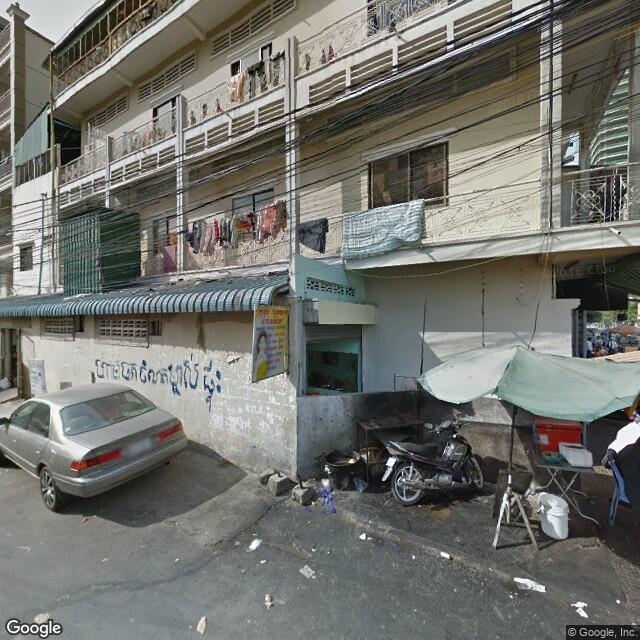litter: (509, 571, 552, 597), (184, 612, 217, 637), (351, 522, 378, 552), (241, 529, 266, 561), (315, 490, 346, 515), (432, 541, 458, 567), (297, 556, 318, 588), (258, 587, 278, 616), (568, 597, 592, 621)
